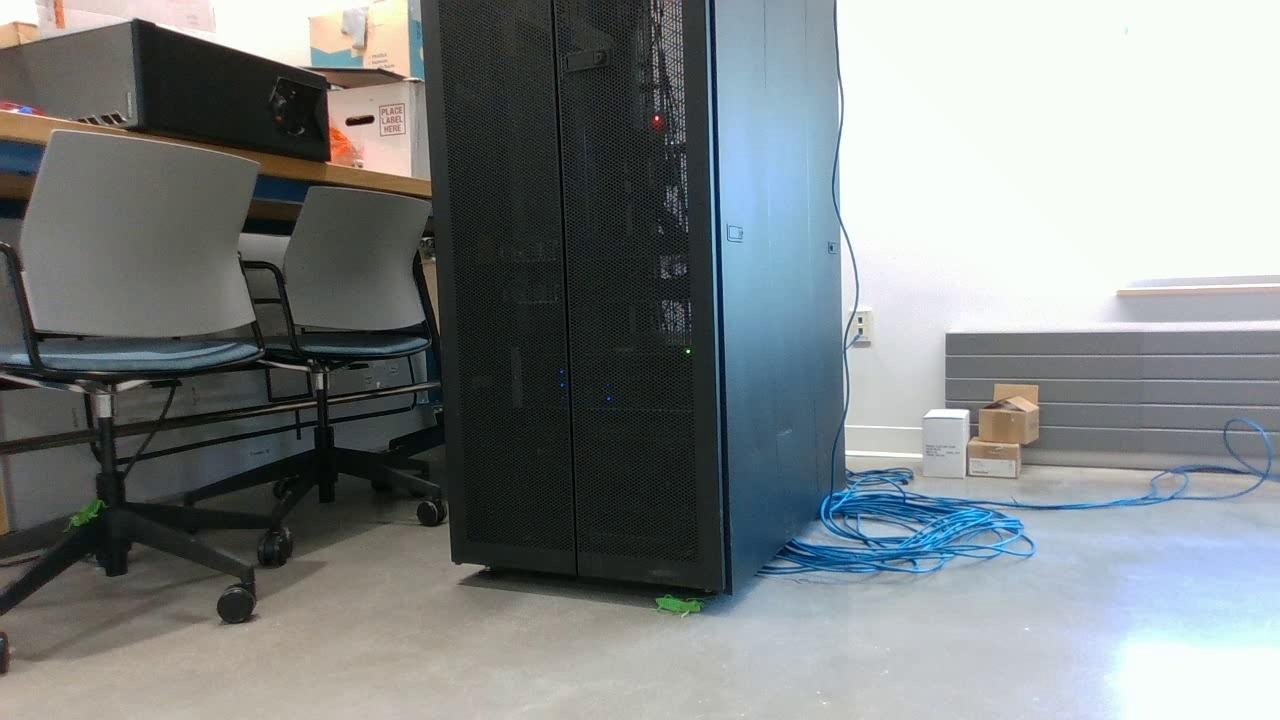grasshopper: (58, 499, 106, 533), (654, 590, 706, 619)
